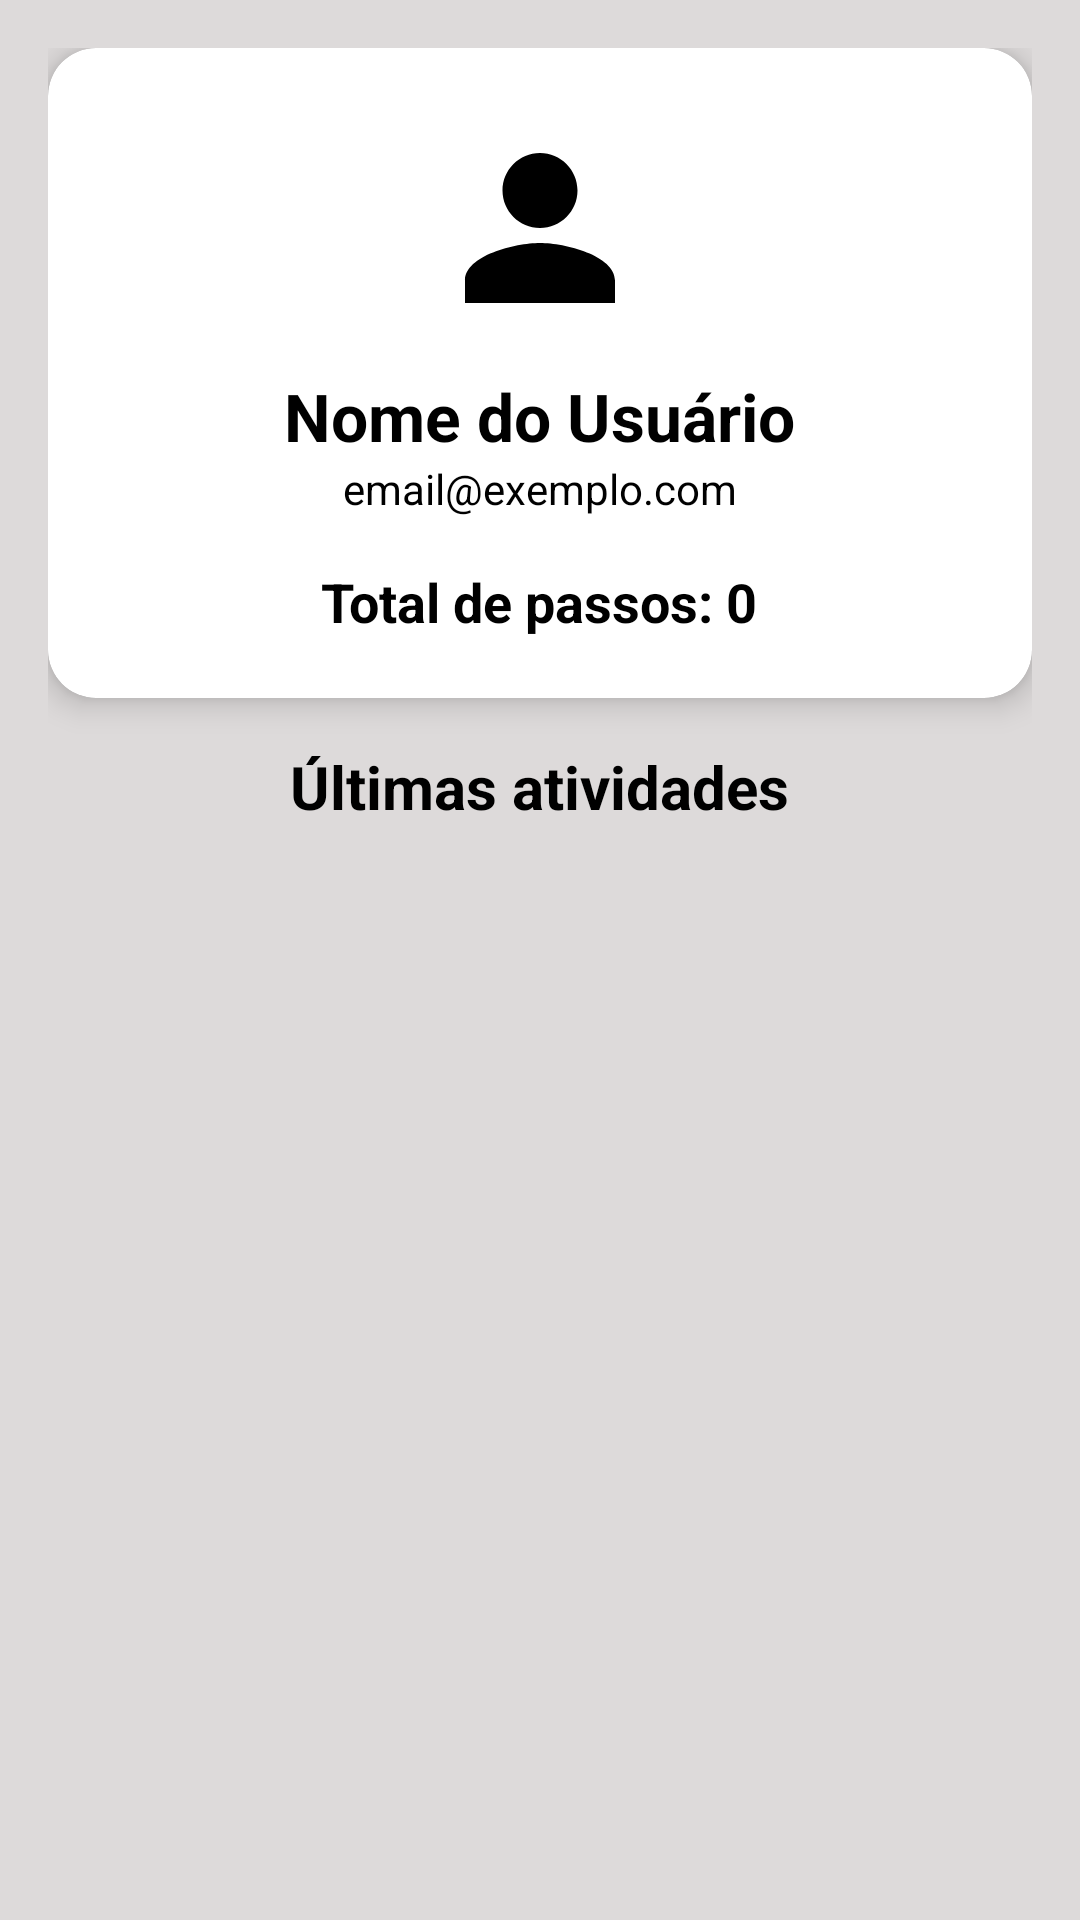

Icons on this 1080px x 1920px Android screen, each with the point to tap as [x,y]:
profile: [540,228]
